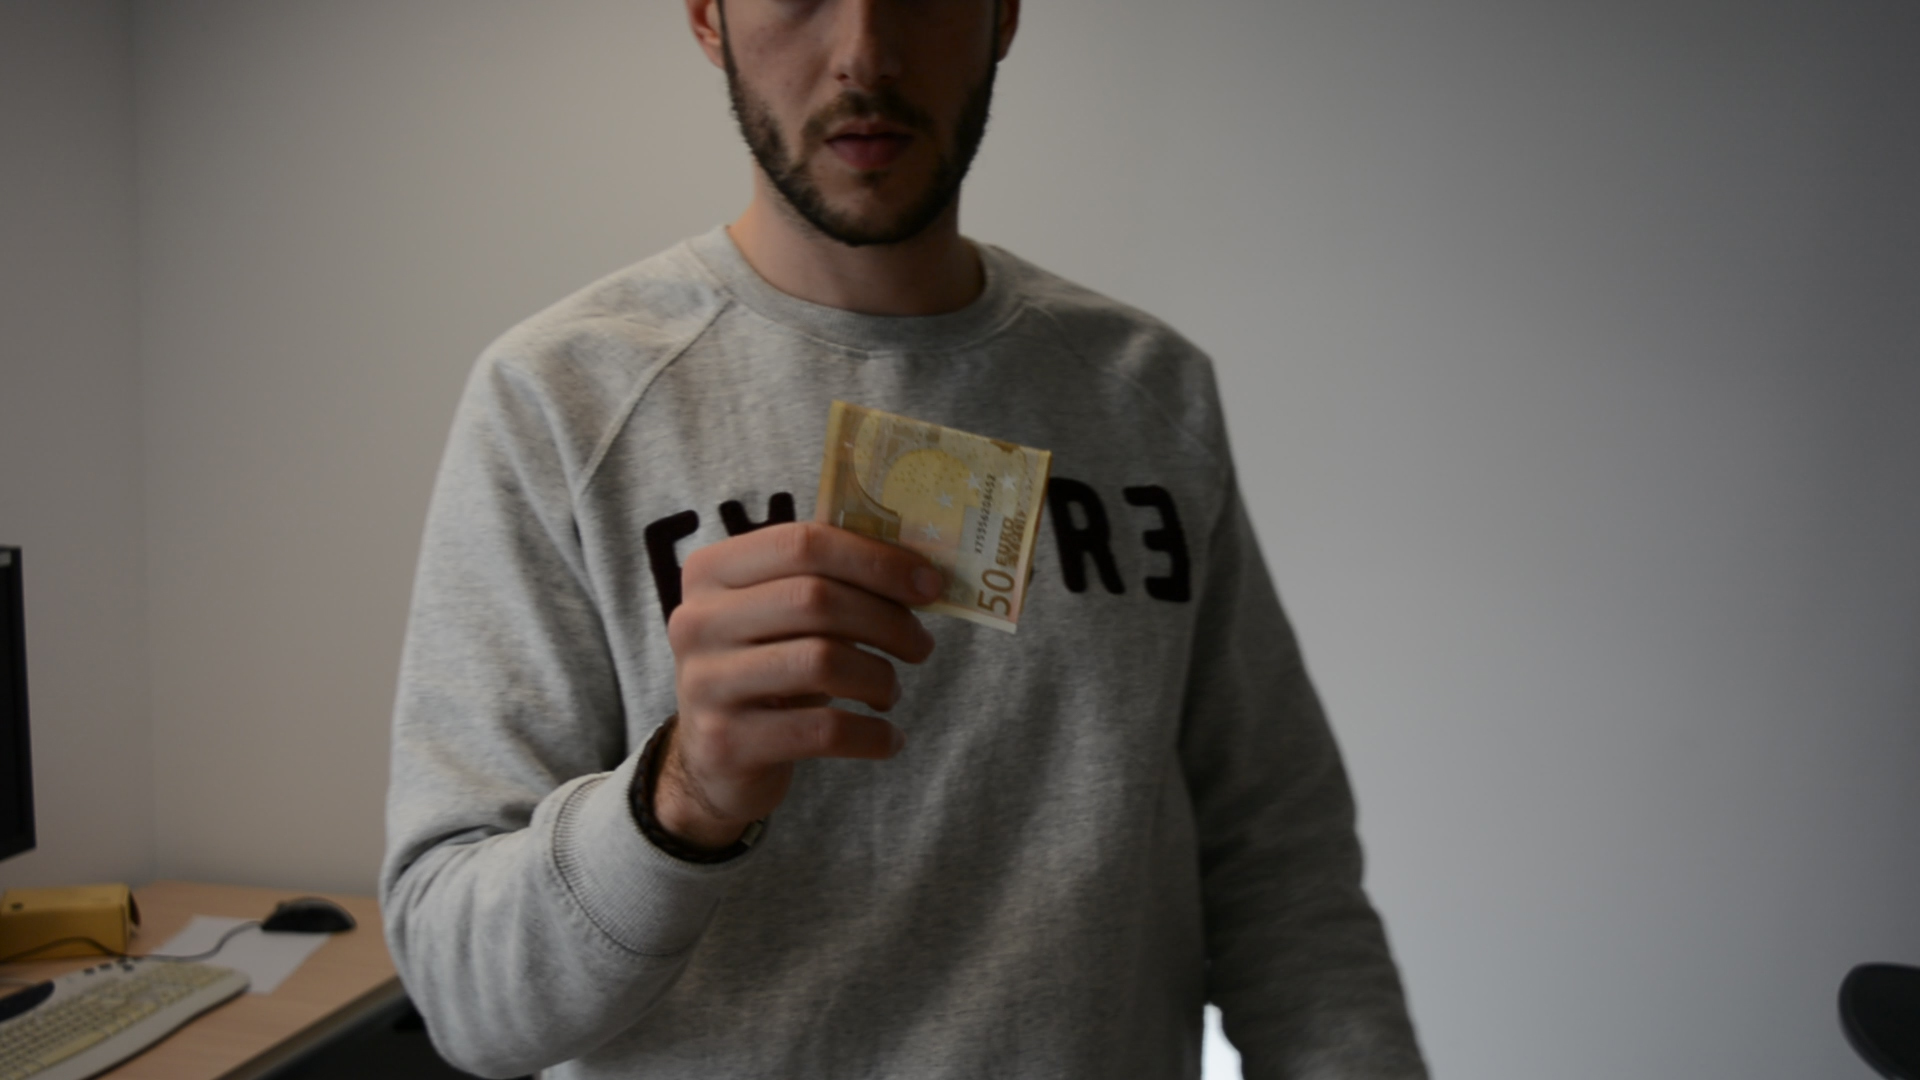billete: (812, 398, 1055, 636)
